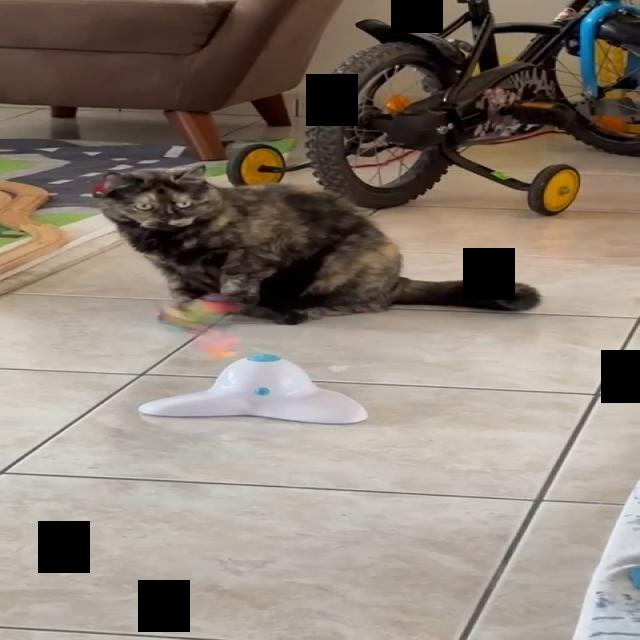authorized: (94, 163, 542, 325)
